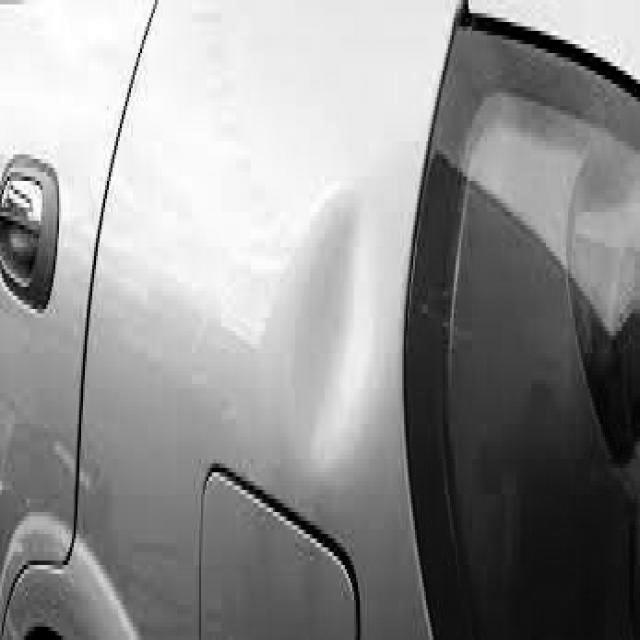quaterpanel-dent: (112, 1, 401, 636)
